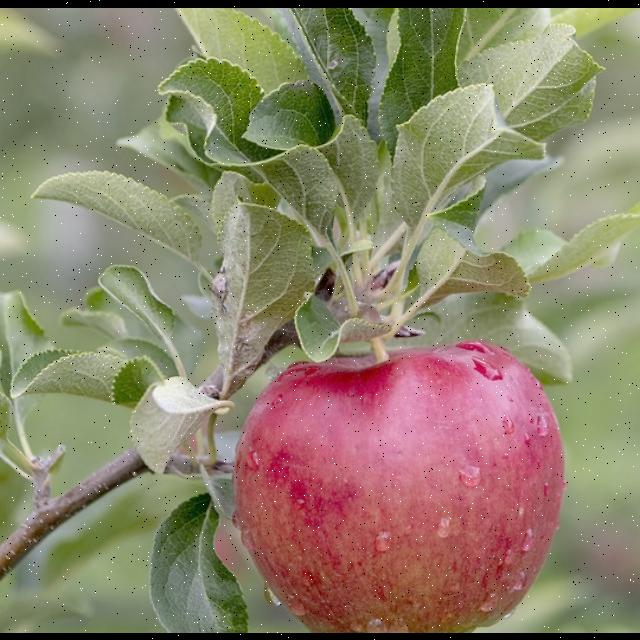Apel Segar: (200, 323, 602, 633)
